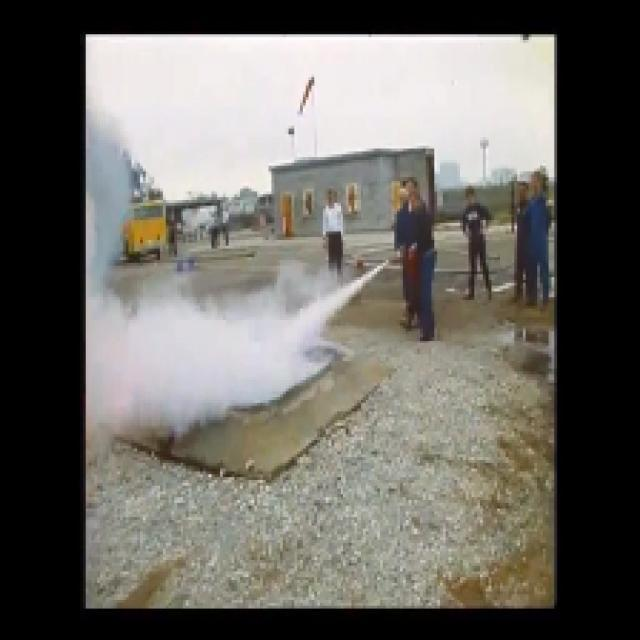Smoke: (84, 107, 328, 479)
